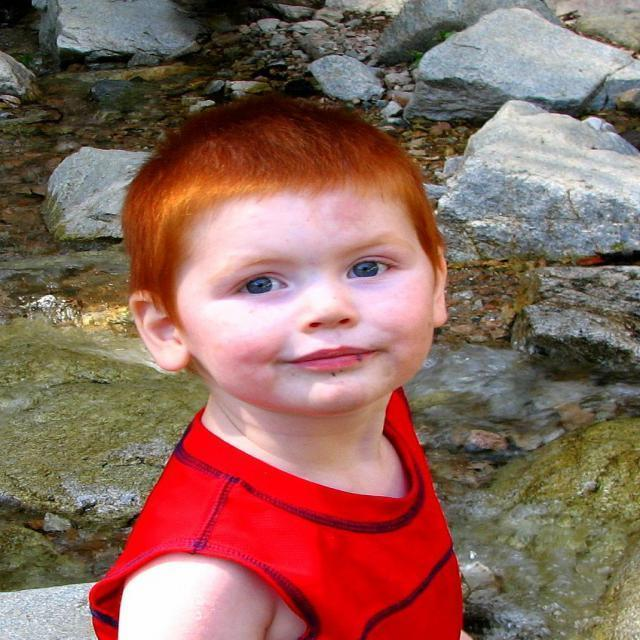closed-mouth: (284, 347, 383, 369)
